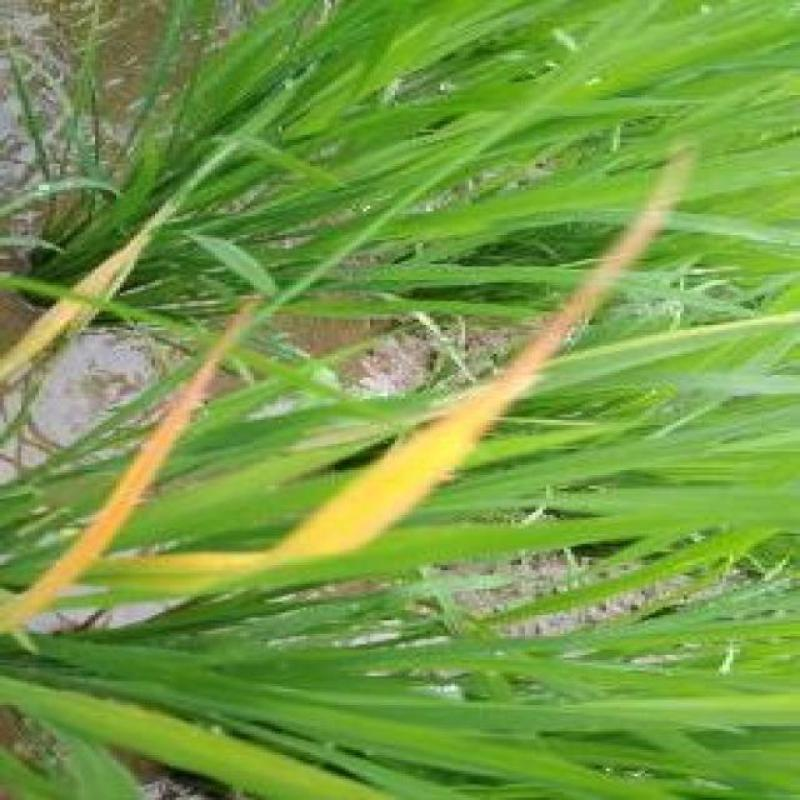Rice Tungro: (272, 446, 508, 552), (110, 373, 195, 482), (9, 518, 115, 582)
